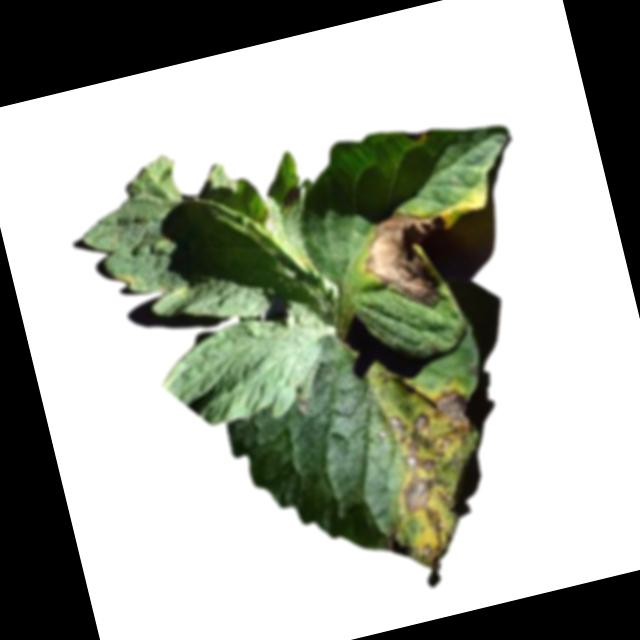Early_blight: (354, 382, 507, 579), (353, 201, 471, 323), (280, 185, 304, 211), (403, 125, 432, 145)
